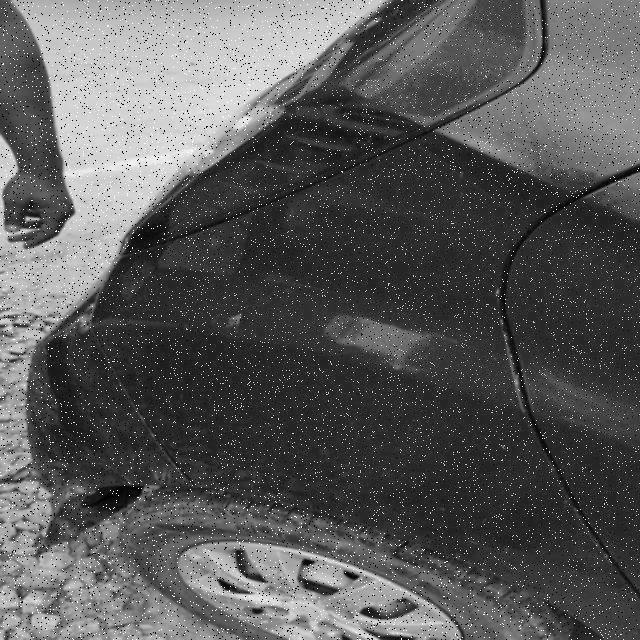rear-bumper-dent: (24, 316, 155, 560)
